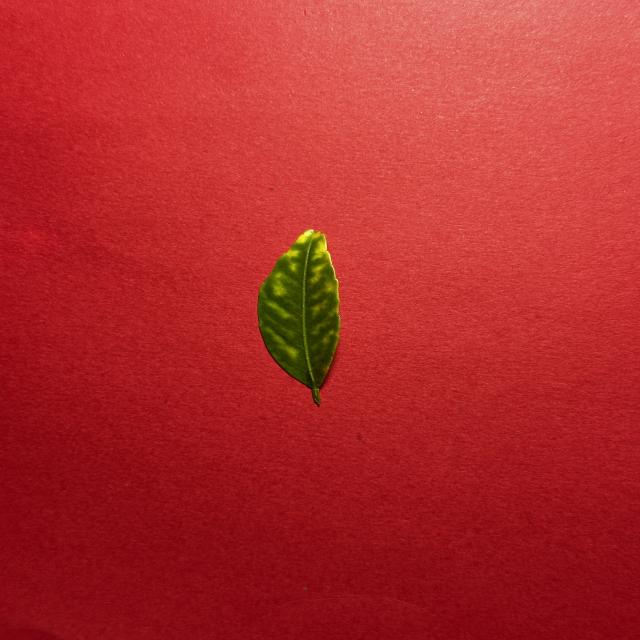greening: (258, 230, 340, 406)
